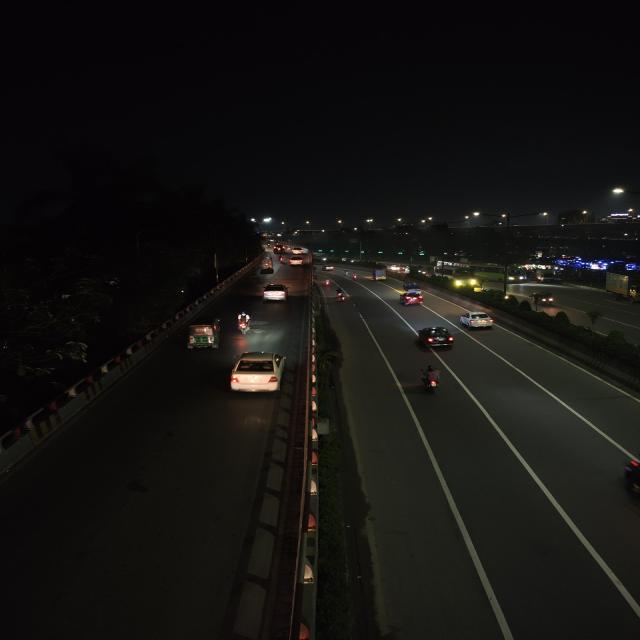bus: (481, 265, 528, 285), (438, 269, 476, 289)
car: (226, 350, 288, 398), (417, 325, 456, 349), (458, 309, 497, 331), (260, 282, 291, 304), (397, 289, 426, 308), (286, 256, 305, 267)
cng: (185, 316, 224, 352), (531, 291, 558, 307), (258, 258, 274, 270)
motorcycle: (414, 363, 447, 397), (232, 311, 257, 337), (335, 288, 348, 302), (349, 272, 359, 281), (324, 264, 335, 272), (322, 278, 332, 286)
truck: (604, 271, 640, 304), (535, 270, 555, 284), (372, 268, 388, 282)
